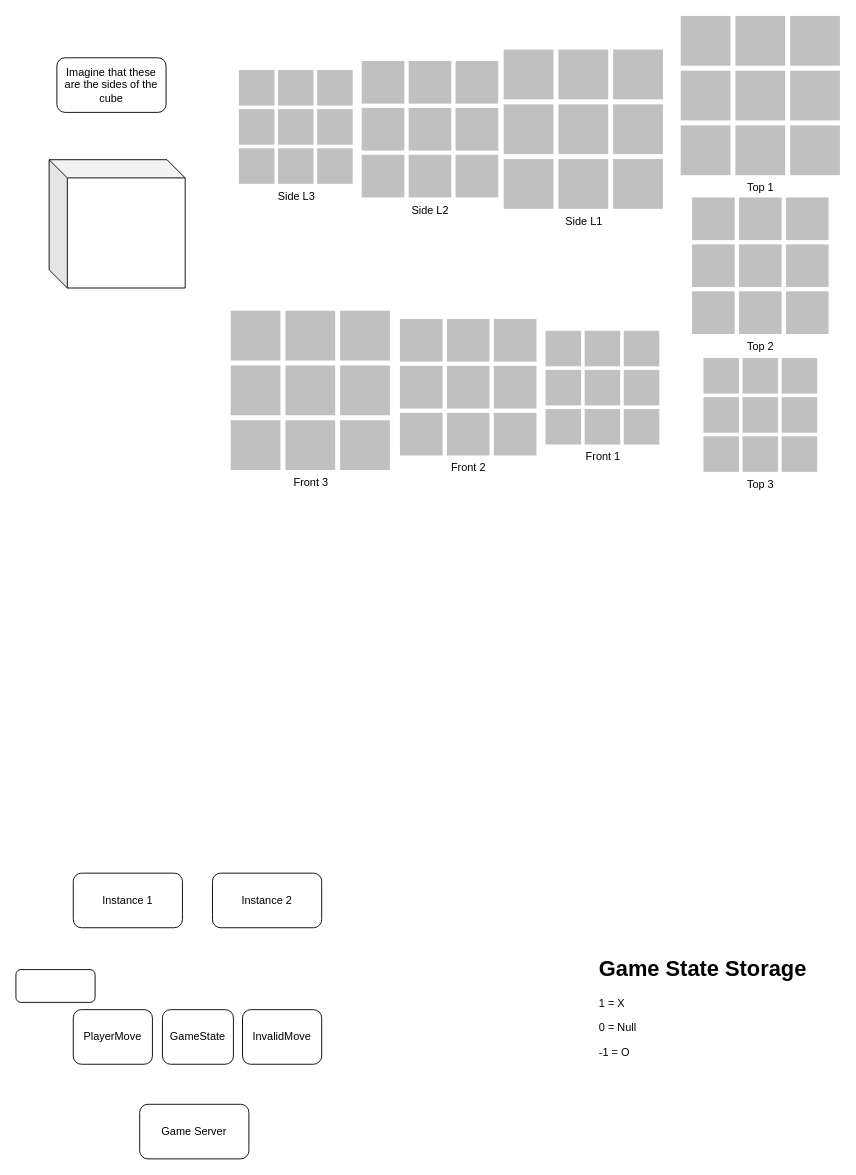
This 856x1175 diagram has some shape labels left out. The shapes that lost their labels are listed below. From the top down, each one's centre as x and y in pixels, then its label:
At [116,223]: "3d tic tac toe".
At [55,985]: "GamePacket".
